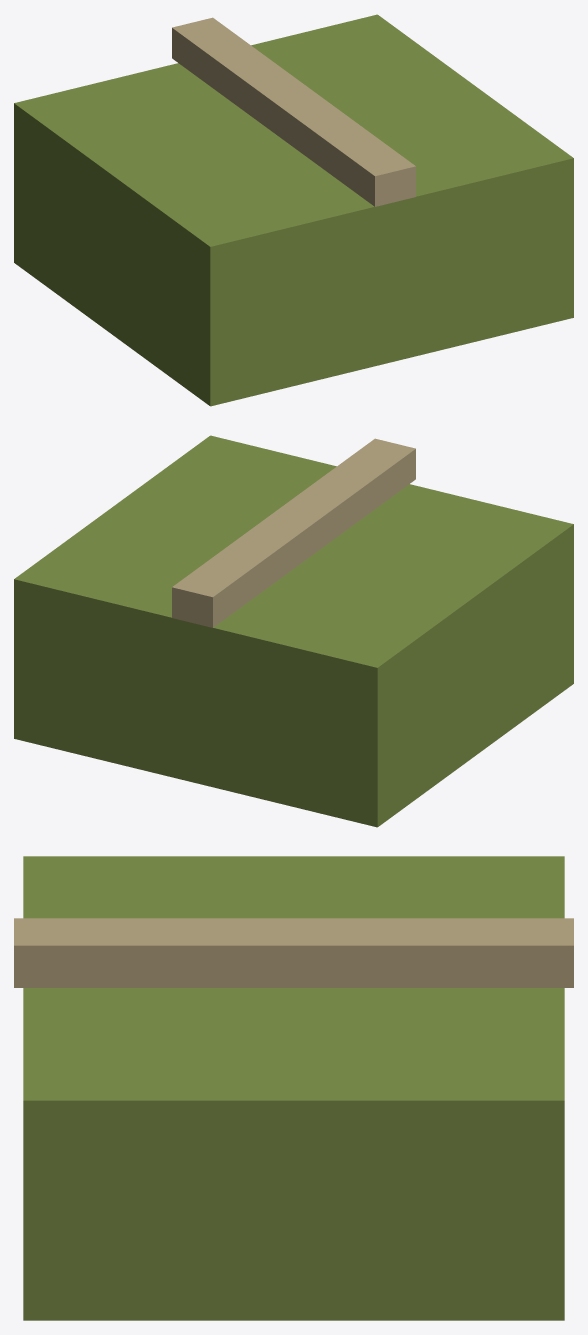
Rendered from spread-portable-brew-food.fbx.
3 renders of one model, top to bottom at view 1: azimuth 30°, elevation 25°; view 2: azimuth 150°, elevation 25°; view 3: azimuth 270°, elevation 25°, orthographic. The views are drawn at different scales.
Parts seen in each view (by area): view 1: spread-portable-brew-food__Geometry; view 2: spread-portable-brew-food__Geometry; view 3: spread-portable-brew-food__Geometry.
Boxes of the visible parts, x1,y1,x2,y2 form: spread-portable-brew-food__Geometry: [14, 14, 573, 406]; spread-portable-brew-food__Geometry: [14, 435, 573, 827]; spread-portable-brew-food__Geometry: [14, 856, 573, 1320].
Size of the model in its own units: 0.31 by 0.1575 by 0.3.
